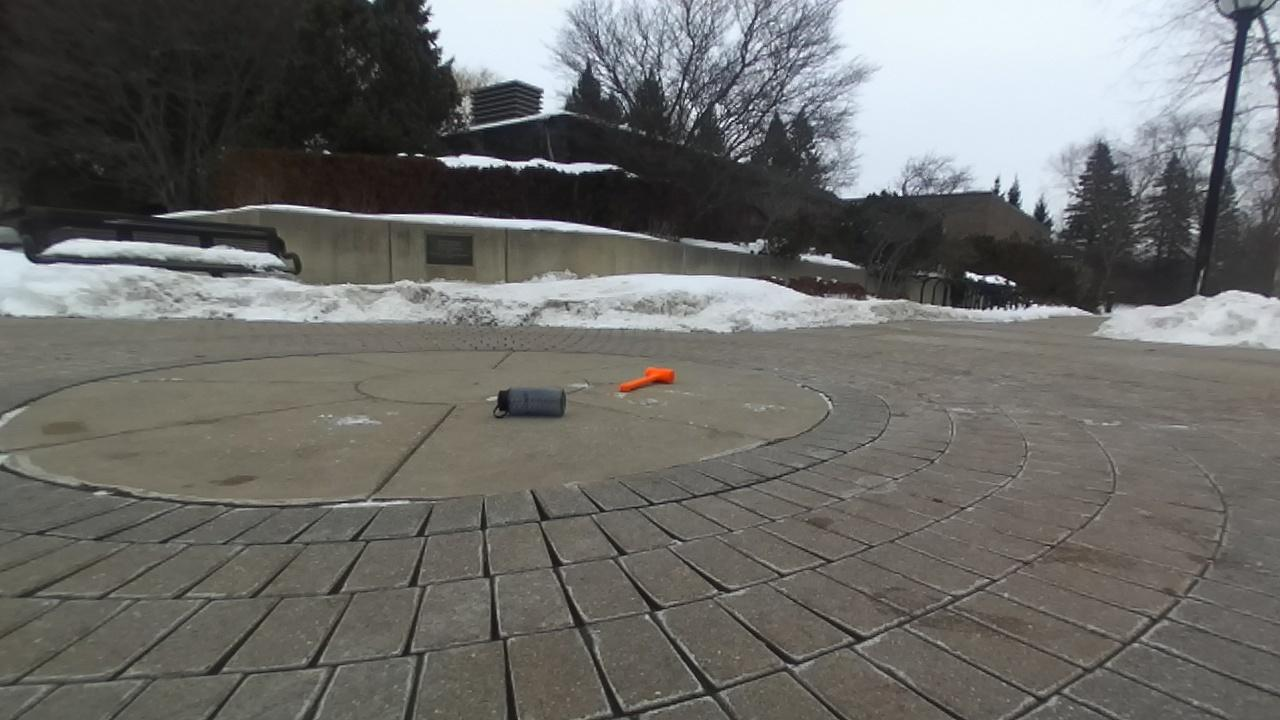bottle: (494, 388, 565, 417)
mallet: (619, 367, 674, 392)
